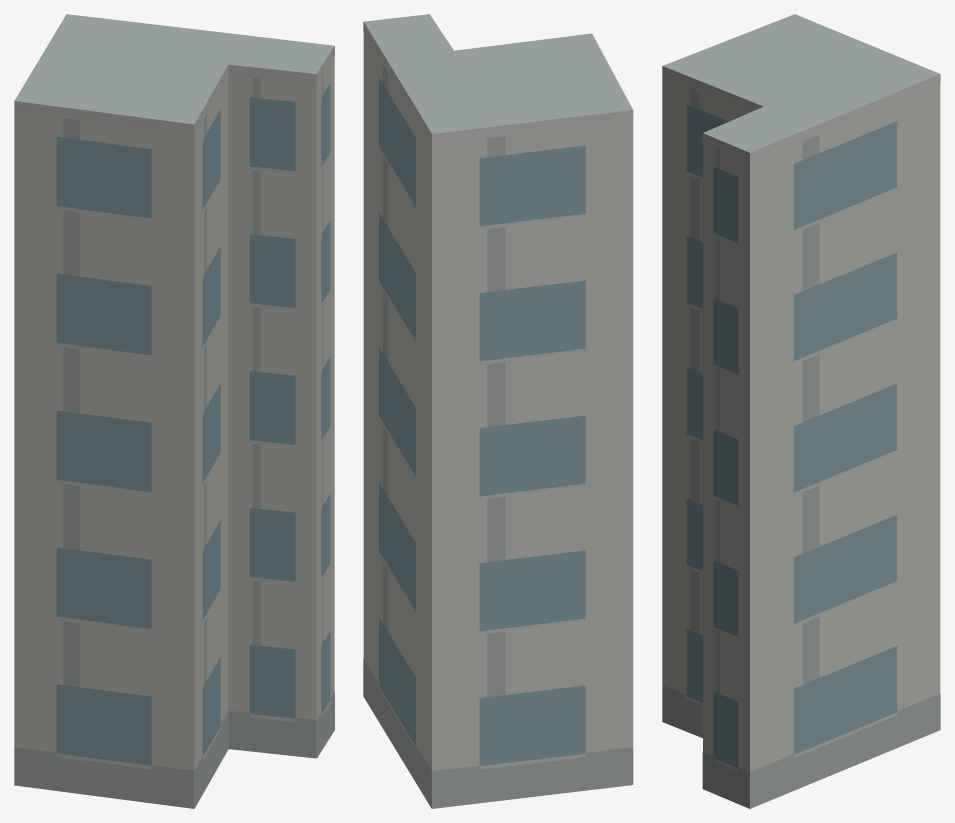
The model's file is survey-upis-32645703.glb.
The picture shows the model from 3 angles, left to right: view 1: azimuth 30°, elevation 25°; view 2: azimuth 150°, elevation 25°; view 3: azimuth 270°, elevation 25°; orthographic projection. The views are drawn at different scales.
Parts seen in each view (by area): view 1: survey-upis-32645703.tmp; view 2: survey-upis-32645703.tmp; view 3: survey-upis-32645703.tmp.
Boxes of the visible parts, left/top/right/bottom form: survey-upis-32645703.tmp: left=14, top=14, right=334, bottom=808; survey-upis-32645703.tmp: left=363, top=14, right=633, bottom=808; survey-upis-32645703.tmp: left=662, top=14, right=940, bottom=808.
Bounding box in the file's own units: 6.93 × 15.25 × 5.87.
